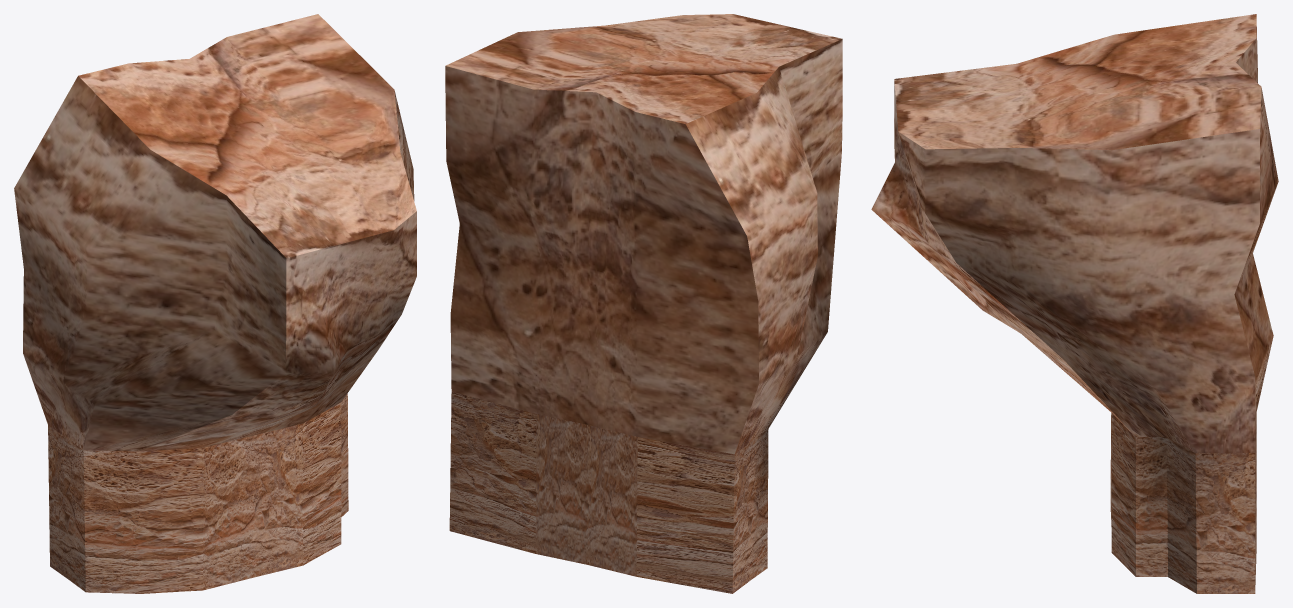
File: env_model_rock_arch_01.fbx
The picture shows the model from 3 angles, left to right: view 1: azimuth 30°, elevation 25°; view 2: azimuth 150°, elevation 25°; view 3: azimuth 270°, elevation 25°; orthographic projection.
Parts seen in each view (by area): view 1: pCube14; view 2: pCube14; view 3: pCube14.
Boxes of the visible parts, box(x1,y1,x2,y2) form: pCube14: box(14, 14, 416, 593); pCube14: box(445, 14, 842, 593); pCube14: box(871, 14, 1278, 593).
Bounding box in the file's own units: 648 × 900 × 709.
